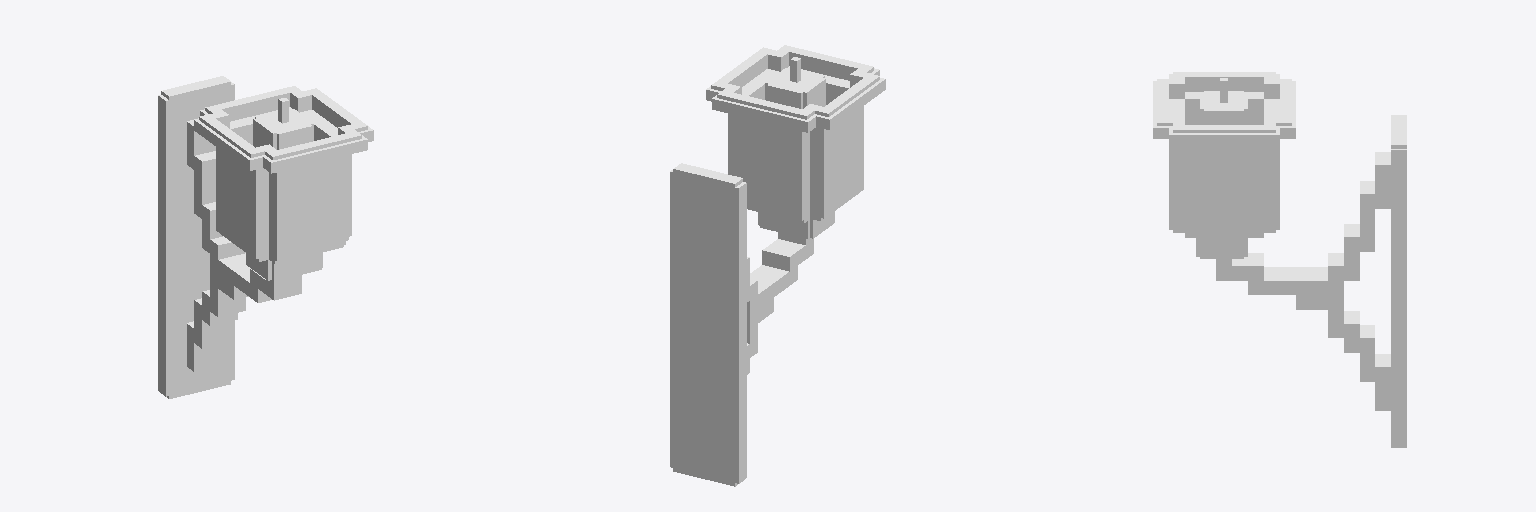
The model's file is candle_holder.obj.
The picture shows the model from 3 angles: view 1: azimuth 30°, elevation 25°; view 2: azimuth 150°, elevation 25°; view 3: azimuth 270°, elevation 25°; orthographic projection.
Size of the model in its own units: 36 by 98 by 64.